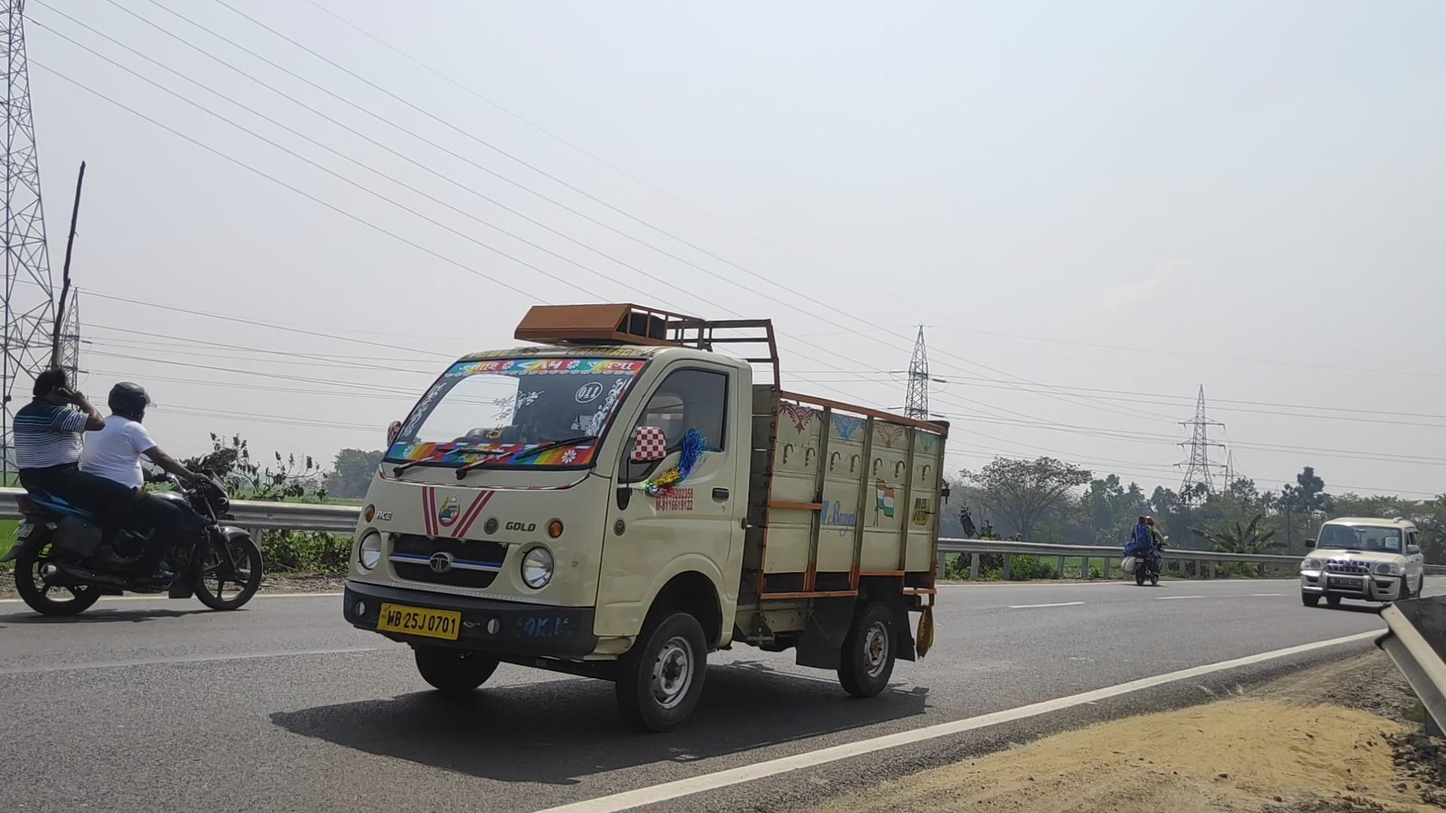bike: (1, 368, 264, 619), (1121, 516, 1169, 586)
car: (1300, 516, 1424, 611)
van: (345, 303, 951, 733)
